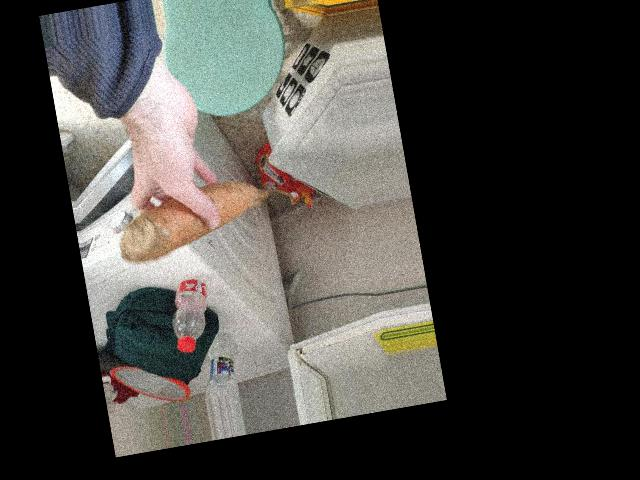sweet_potato: (115, 184, 280, 256)
